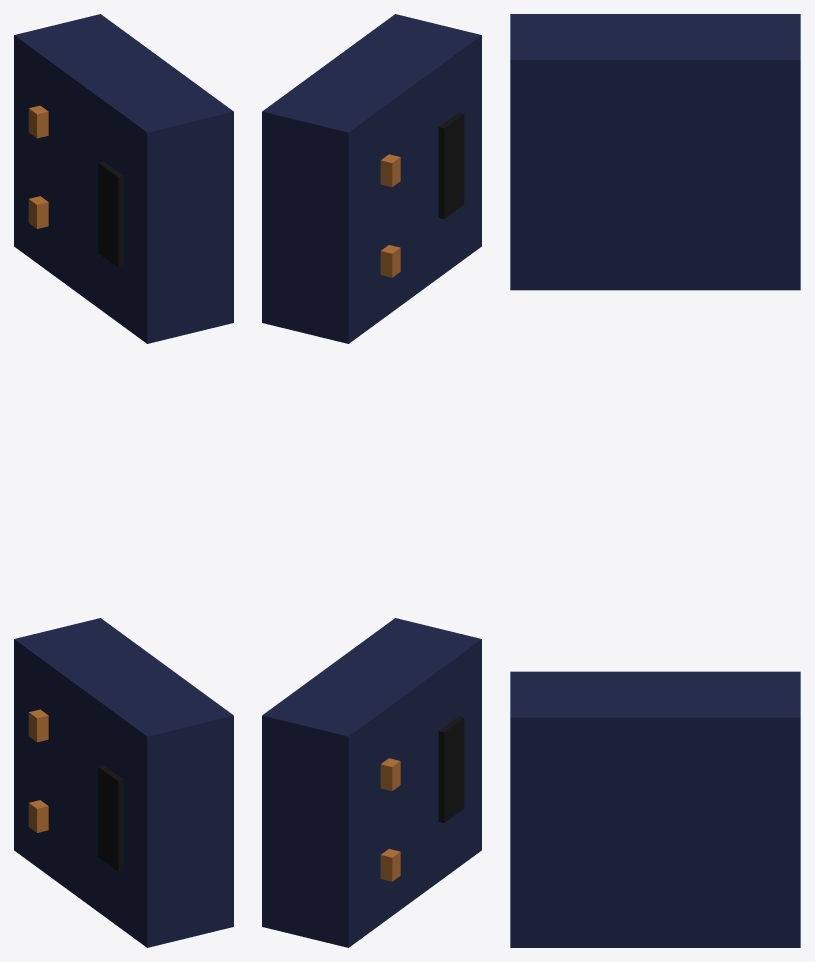
Rendered from amr_chargers.obj.
3 views of the same model, side by side, from view 1: azimuth 30°, elevation 25°; view 2: azimuth 150°, elevation 25°; view 3: azimuth 270°, elevation 25° (orthographic). The views are drawn at different scales.
Visible parts, largest first — view 1: navy, black, c_183_114_51; view 2: navy, black, c_183_114_51; view 3: navy.
Part boxes in pixels (box(x1,y1,x2,y2)): navy: box(14, 14, 233, 947); black: box(98, 161, 123, 871); c_183_114_51: box(28, 105, 48, 832); navy: box(262, 14, 481, 947); black: box(438, 112, 464, 822); c_183_114_51: box(380, 154, 400, 881); navy: box(510, 14, 800, 947).
Size of the model in its own units: 0.35 by 2.7 by 0.8.
